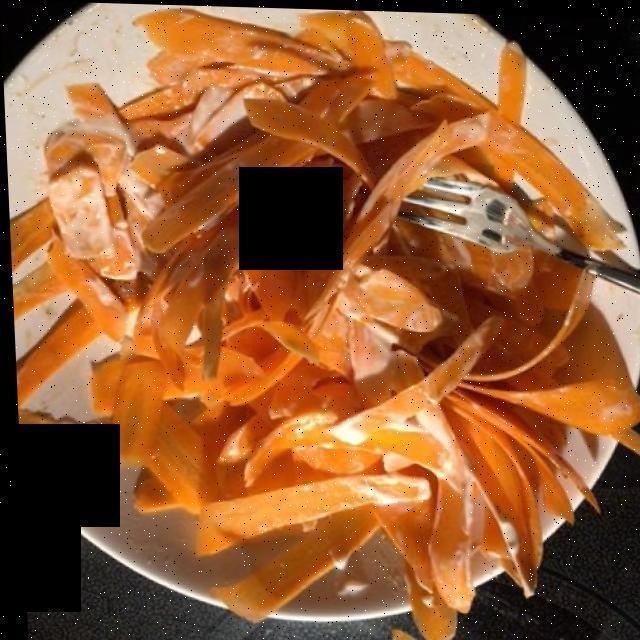carrot: (28, 39, 633, 634)
